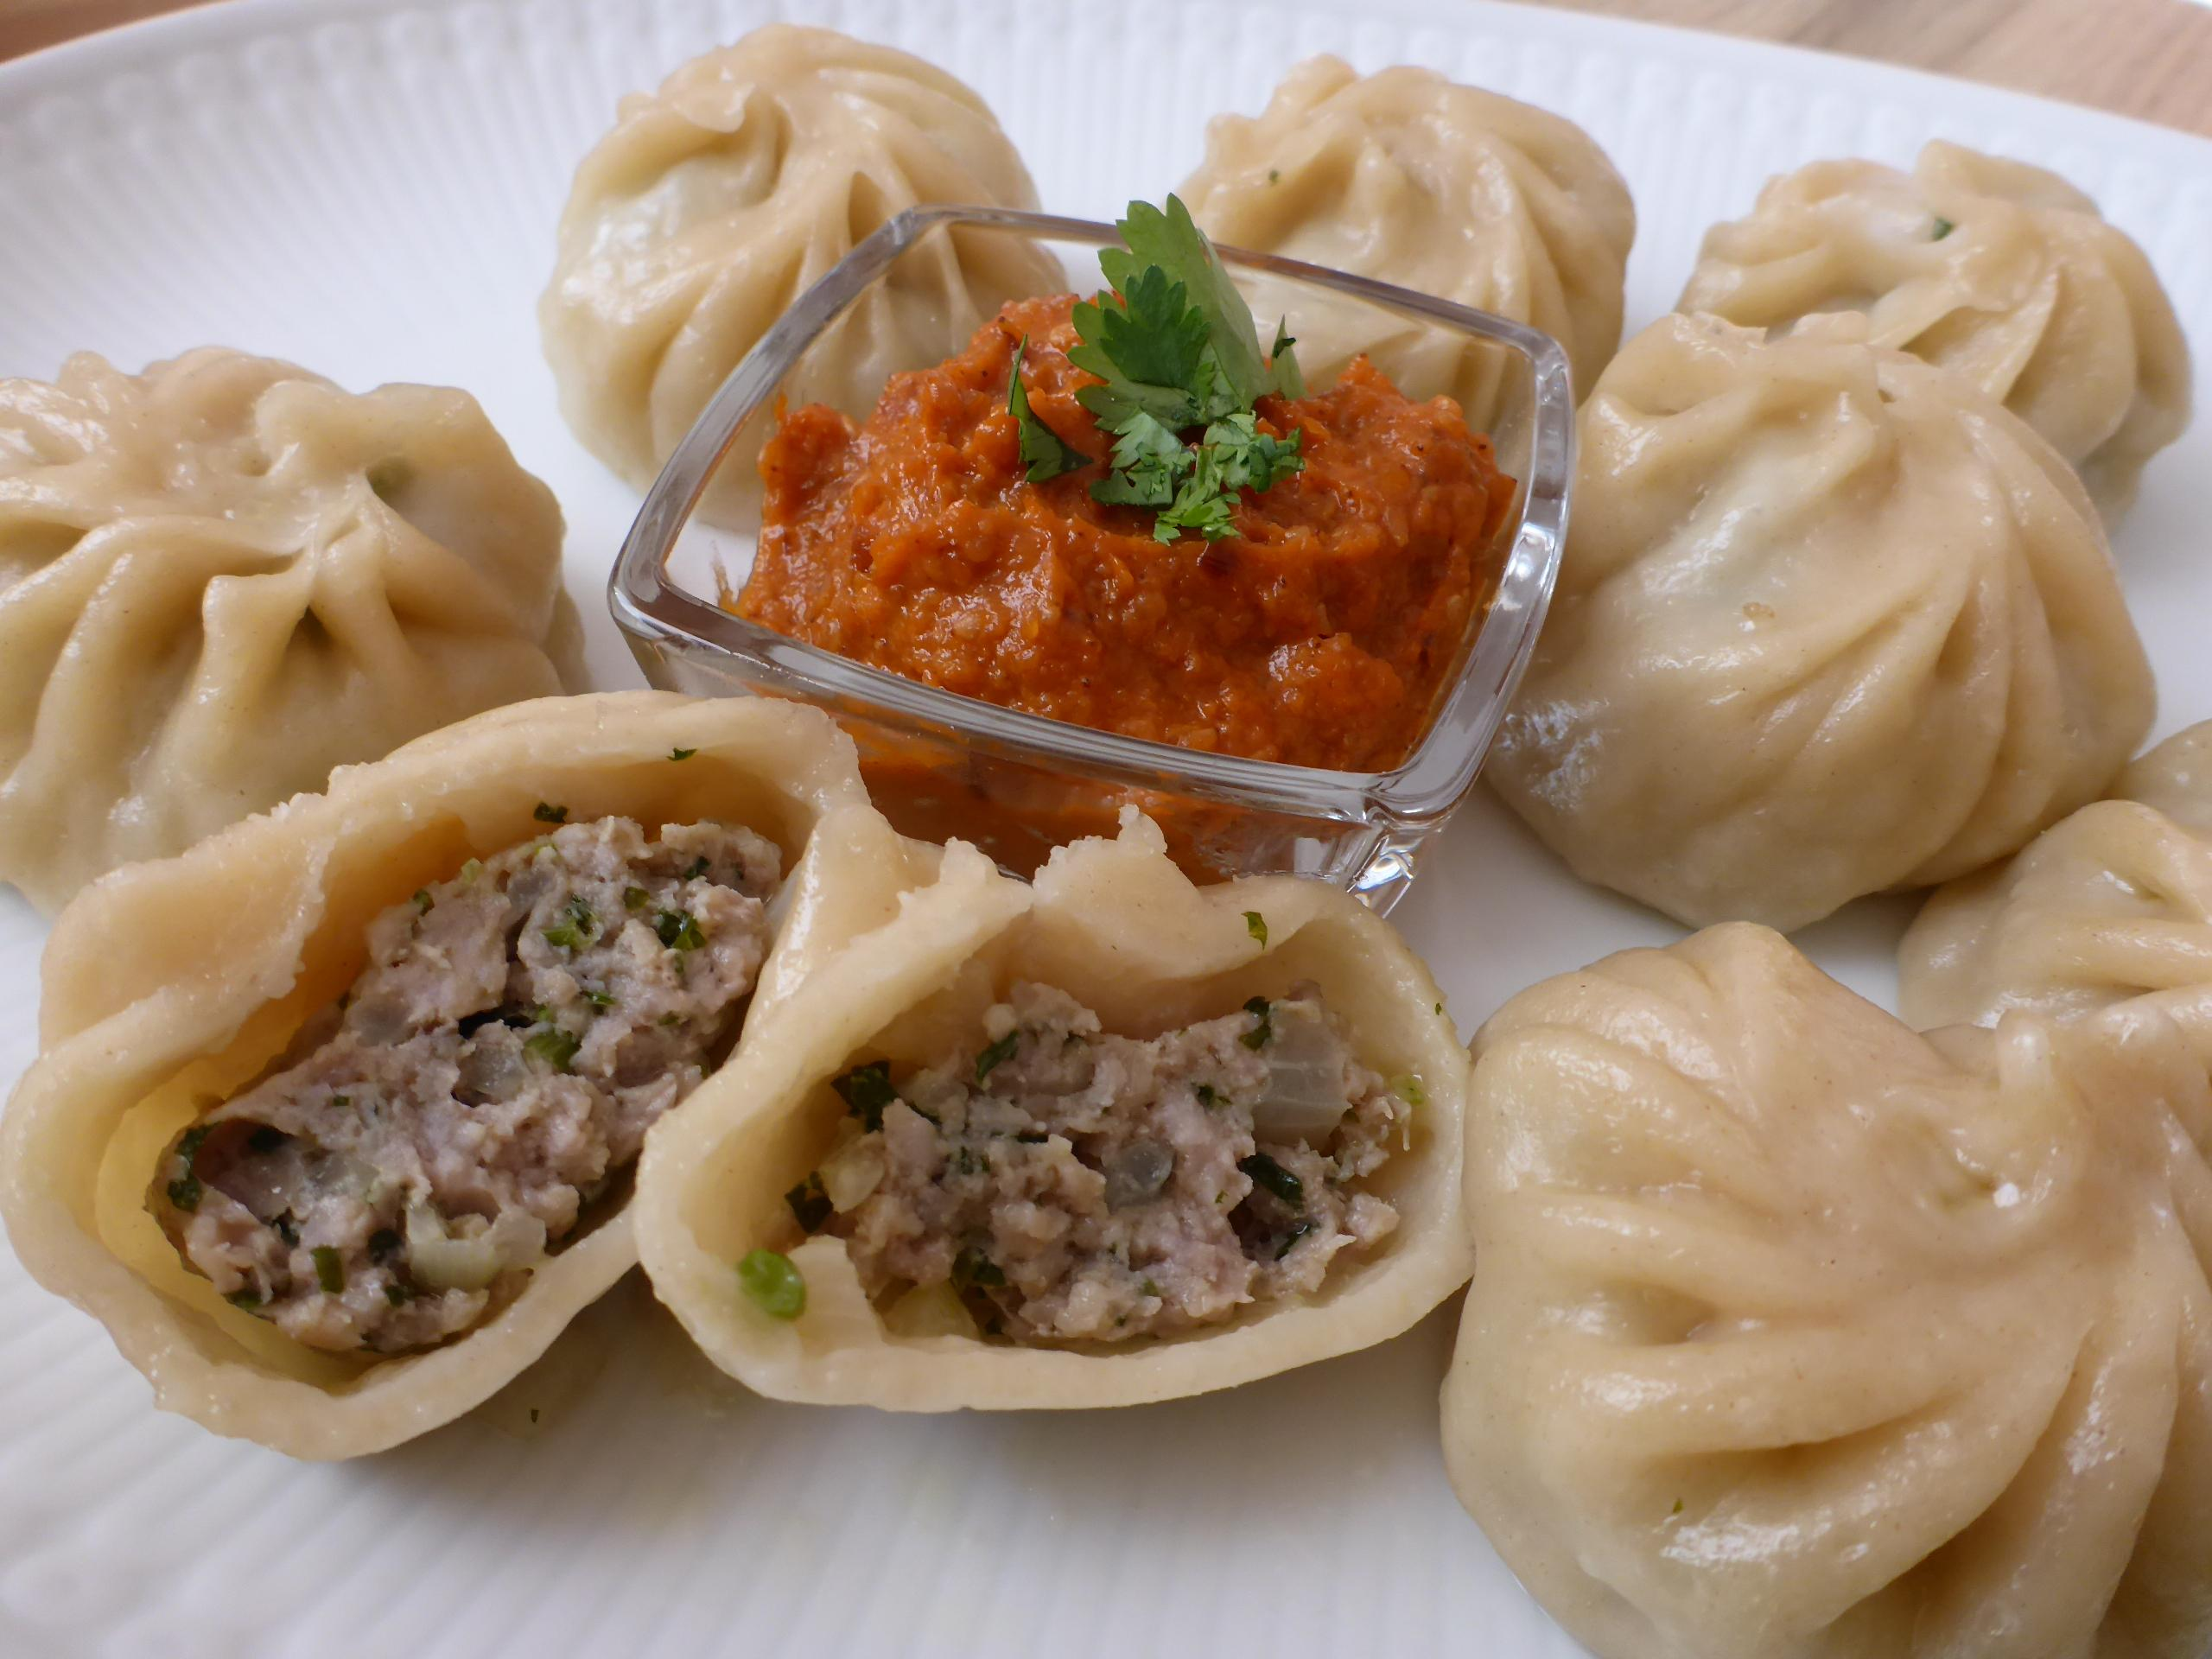momos: (0, 692, 1468, 1455), (1442, 925, 2212, 1656), (1486, 310, 2156, 929), (0, 345, 583, 911), (540, 26, 1036, 488), (1742, 143, 2191, 519), (1179, 56, 1634, 396), (1900, 721, 2212, 1033), (786, 228, 1068, 418), (1240, 277, 1503, 423)
